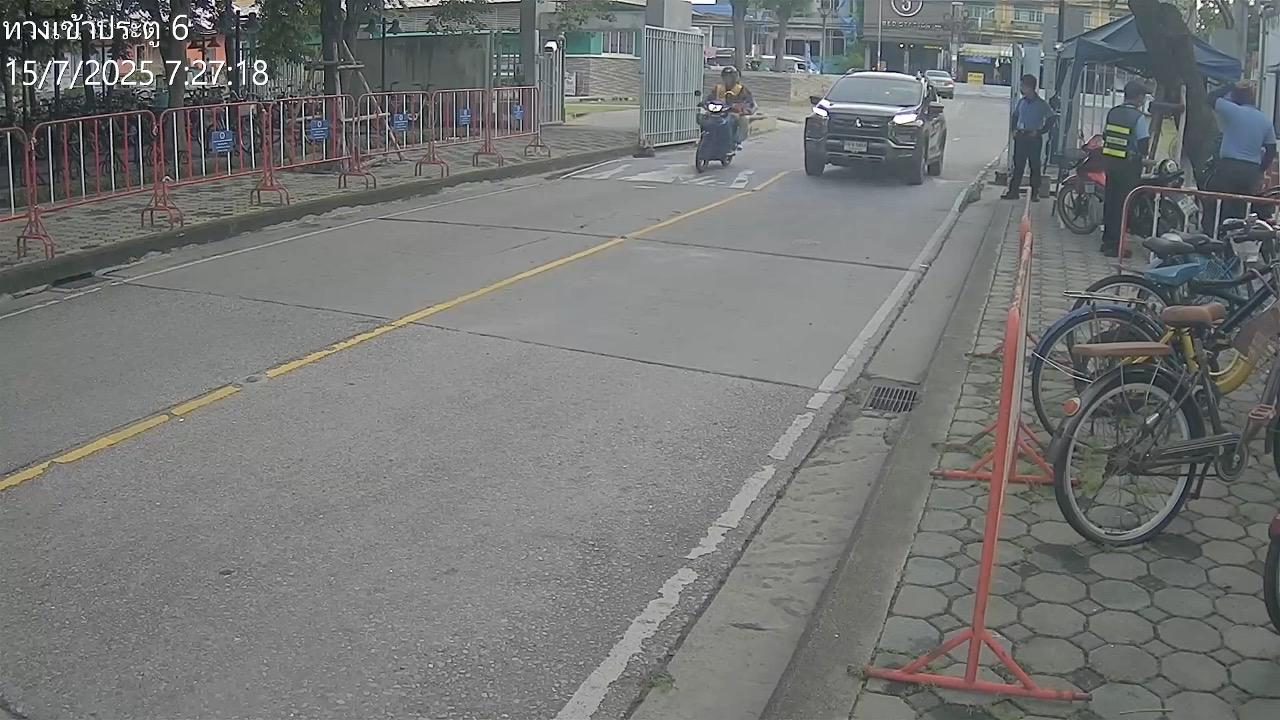With-Helmet: (721, 65, 740, 86)
